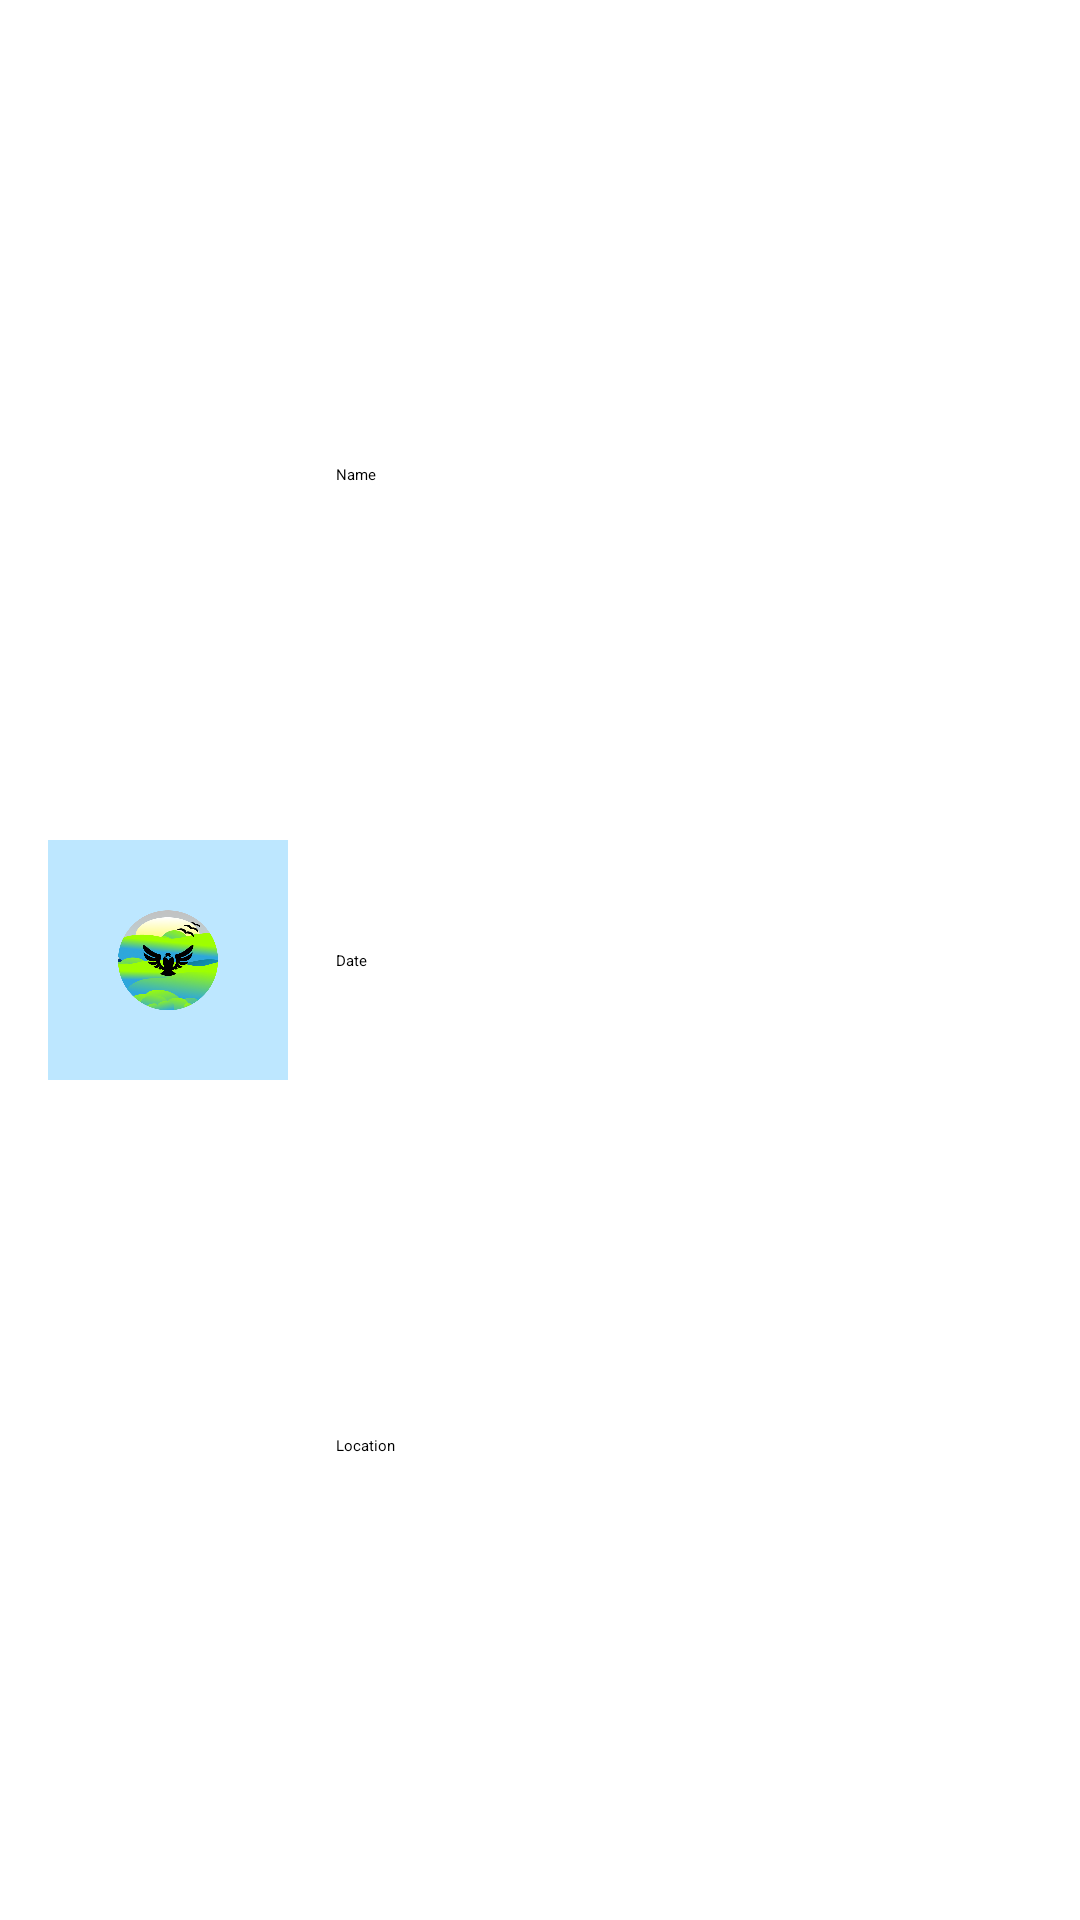

Screen size 1080w x 1920h. Icon name, then its center in pixels as (x=x, y=y):
bkgimg: (x=168, y=960)
